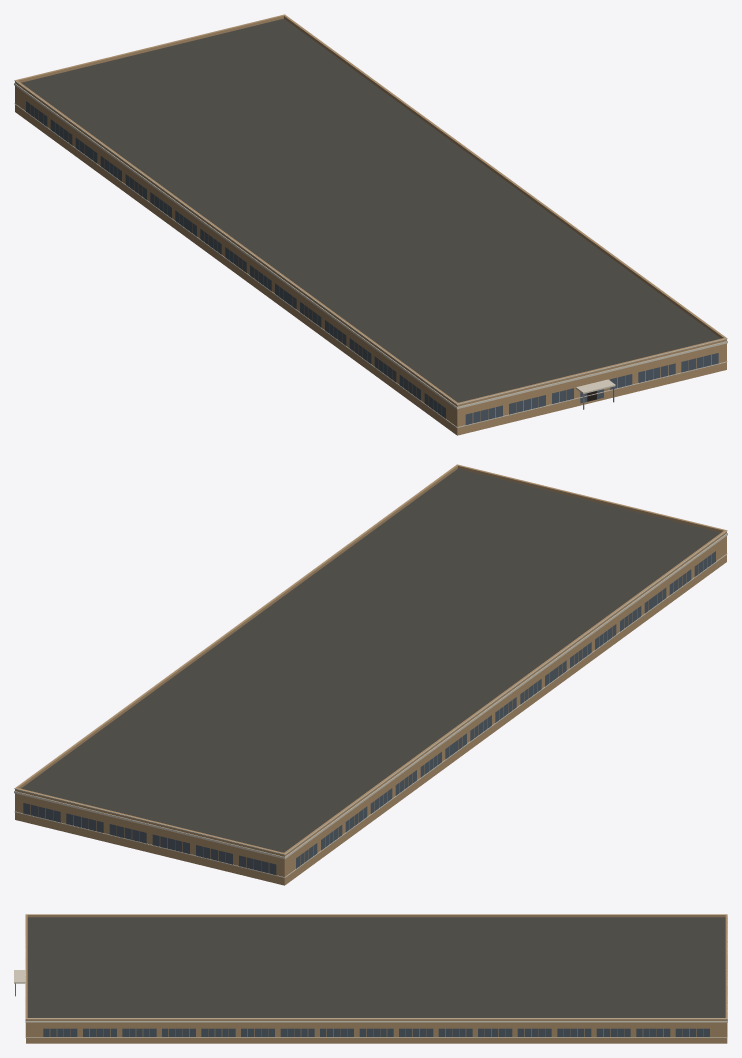
Rendered from metropolitan-career-technical-center-building.glb.
3 renders of one model, top to bottom at view 1: azimuth 30°, elevation 25°; view 2: azimuth 150°, elevation 25°; view 3: azimuth 270°, elevation 25°, orthographic. The views are drawn at different scales.
Visible parts, largest first — view 1: metropolitan_career_technical_center_building; view 2: metropolitan_career_technical_center_building; view 3: metropolitan_career_technical_center_building.
Part boxes in pixels (box(x1,y1,x2,y2)): metropolitan_career_technical_center_building: box(14, 14, 727, 435); metropolitan_career_technical_center_building: box(14, 464, 727, 885); metropolitan_career_technical_center_building: box(14, 914, 727, 1043).
Size of the model in its own units: 50.24 by 5.6 by 145.
